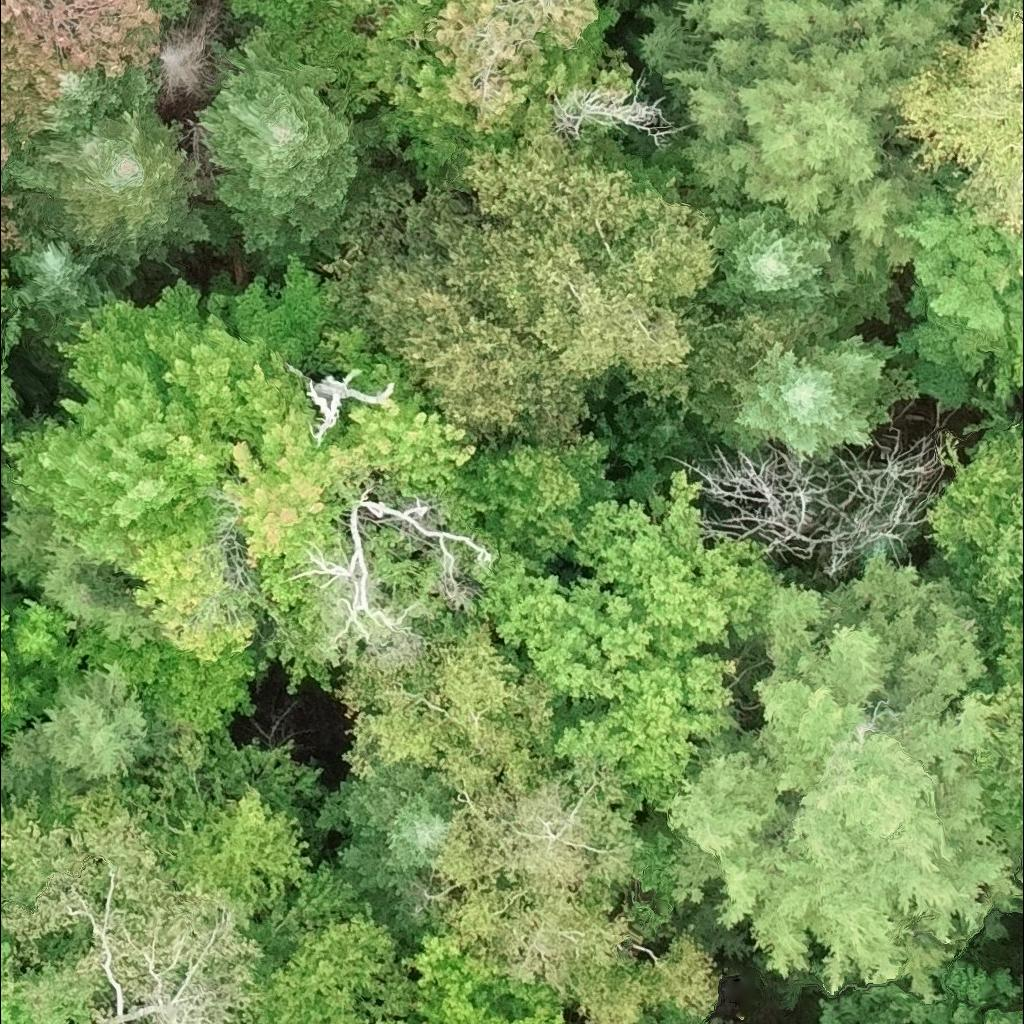crown: (663, 552, 1023, 1003), (0, 255, 346, 662), (318, 122, 716, 450), (471, 466, 786, 814), (637, 0, 966, 283), (426, 752, 719, 1023), (0, 777, 267, 1023), (336, 0, 636, 201), (188, 27, 370, 270), (331, 621, 556, 800), (3, 99, 215, 266), (877, 188, 1023, 412), (685, 332, 925, 461), (896, 1, 1023, 234), (316, 322, 480, 500), (789, 399, 951, 579), (925, 411, 1023, 668), (312, 759, 459, 920), (660, 437, 848, 559), (0, 659, 158, 798), (163, 769, 315, 912), (0, 0, 162, 131), (467, 427, 622, 563), (247, 899, 416, 1023), (369, 930, 576, 1023), (74, 625, 256, 723), (689, 203, 836, 313), (4, 227, 139, 336), (0, 497, 126, 613), (543, 73, 689, 149), (292, 367, 397, 447), (36, 67, 152, 137), (147, 0, 218, 109), (0, 105, 34, 249), (0, 940, 41, 1023), (0, 602, 18, 715), (978, 986, 1023, 1023), (1005, 329, 1023, 391)
